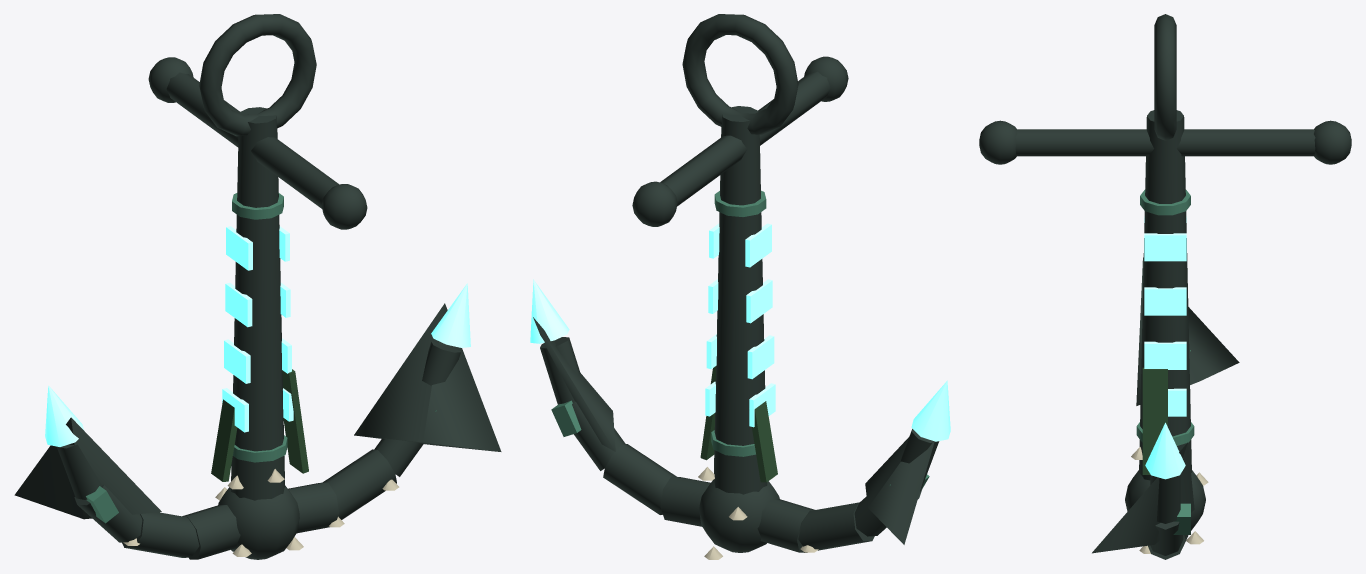
The model's file is drowned-anchor.glb.
The picture shows the model from 3 angles, left to right: view 1: azimuth 30°, elevation 25°; view 2: azimuth 150°, elevation 25°; view 3: azimuth 270°, elevation 25°; orthographic projection. The views are drawn at different scales.
Parts seen in each view (by area): view 1: Mesh_Shank, Mesh_FlukeF, Mesh_Ring, Mesh_FlukeA, Mesh_Stock, Mesh_Crown, Mesh_ArmF1, Mesh_ArmA1, Mesh_ArmA0, Mesh_ArmF0, Mesh_StockBallS, Mesh_WeedA (+15 smaller); view 2: Mesh_Shank, Mesh_Ring, Mesh_Stock, Mesh_FlukeA, Mesh_Crown, Mesh_ArmF1, Mesh_FlukeF, Mesh_ArmA1, Mesh_ArmA0, Mesh_ArmF0, Mesh_StockBallP, Mesh_BillA (+15 smaller); view 3: Mesh_Shank, Mesh_Stock, Mesh_FlukeF, Mesh_Ring, Mesh_FlukeA, Mesh_WeedA, Mesh_StockBallP, Mesh_StockBallS, Mesh_BillF, Mesh_Rune0, Mesh_Rune1, Mesh_Rune2 (+5 smaller).
Boxes of the visible parts, x1,y1,x2,y2 form: Mesh_Shank: (231,107,284,500); Mesh_FlukeF: (354,303,501,451); Mesh_Ring: (199,14,316,136); Mesh_FlukeA: (14,417,161,519); Mesh_Stock: (166,72,339,208); Mesh_Crown: (218,485,299,559); Mesh_ArmF1: (322,449,396,519); Mesh_ArmA1: (122,512,199,557); Mesh_ArmA0: (182,505,240,559); Mesh_ArmF0: (288,482,338,533); Mesh_StockBallS: (321,184,367,229); Mesh_WeedA: (282,369,308,473); Mesh_Shank: (713,106,767,494); Mesh_Ring: (682,14,798,134); Mesh_Stock: (660,71,830,206); Mesh_FlukeA: (865,437,934,544); Mesh_Crown: (699,480,779,552); Mesh_ArmF1: (603,444,676,514); Mesh_FlukeF: (533,317,615,451); Mesh_ArmA1: (798,502,874,550); Mesh_ArmA0: (757,498,814,552); Mesh_ArmF0: (660,476,710,526); Mesh_StockBallP: (632,181,677,226); Mesh_BillA: (911,380,950,441); Mesh_Shank: (1139,110,1191,480); Mesh_Stock: (1015,129,1315,156); Mesh_FlukeF: (1092,442,1194,553); Mesh_Ring: (1154,14,1176,140); Mesh_FlukeA: (1136,257,1239,405); Mesh_WeedA: (1142,367,1167,474); Mesh_StockBallP: (1314,120,1351,164); Mesh_StockBallS: (979,120,1016,164); Mesh_BillF: (1145,422,1185,479); Mesh_Rune0: (1144,233,1186,261); Mesh_Rune1: (1144,287,1186,315); Mesh_Rune2: (1144,341,1186,369).
Bounding box in the file's own units: 5.48 × 6.73 × 4.39.
